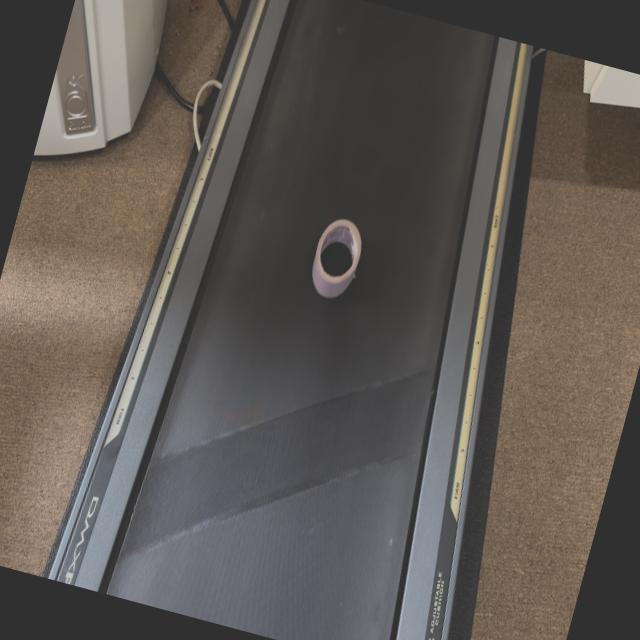Trash: (301, 210, 371, 309)
